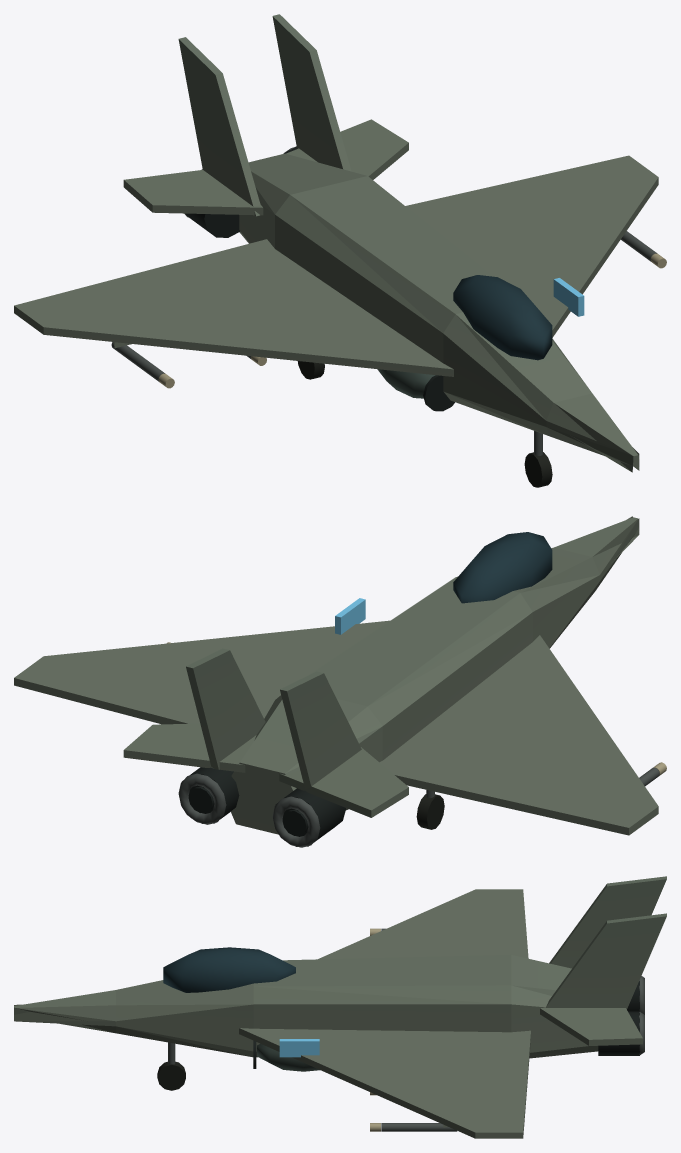
File: ecm-lod.glb
The picture shows the model from 3 angles, top to bottom: view 1: azimuth 30°, elevation 25°; view 2: azimuth 150°, elevation 25°; view 3: azimuth 270°, elevation 25°; orthographic projection. The views are drawn at different scales.
Visible parts, largest first — view 1: equipment (×2), marking; view 2: equipment (×2), marking; view 3: equipment (×2), marking.
Boxes of the visible parts, x1,y1,x2,y2 form: equipment (×2): [14, 14, 666, 487]; marking: [553, 278, 584, 316]; equipment (×2): [14, 516, 666, 847]; marking: [335, 598, 365, 634]; equipment (×2): [14, 876, 666, 1138]; marking: [279, 1039, 319, 1057].
Bounding box in the file's own units: 7.2 × 2.64 × 8.17.
